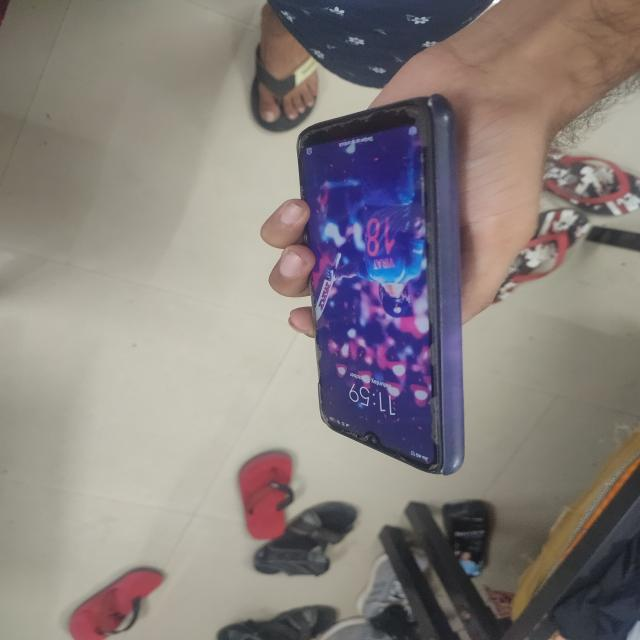Phone: (298, 92, 462, 476)
